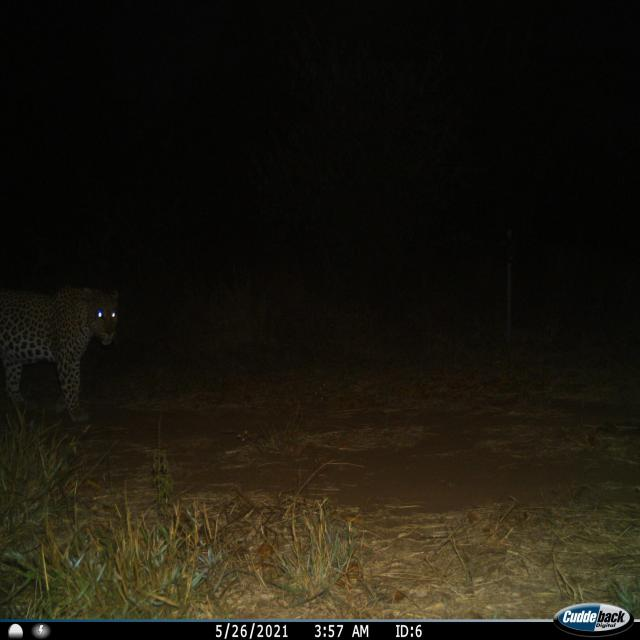Leopard: (1, 275, 119, 448)
